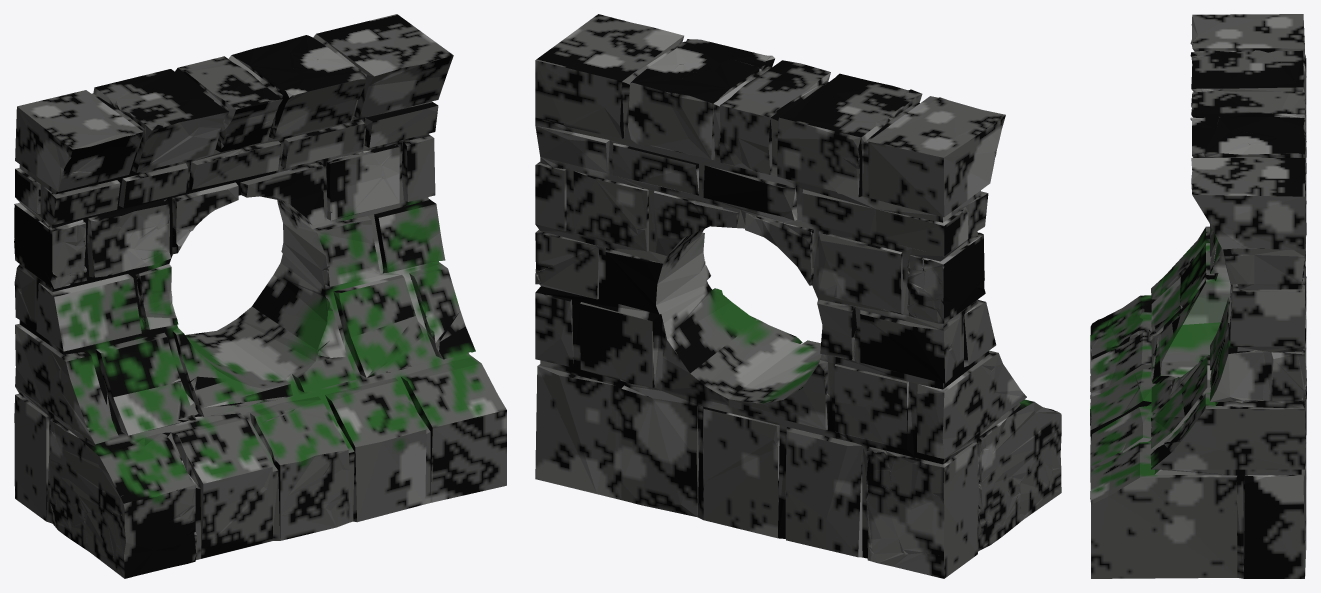
File: wall_pipe.fbx
3 views of the same model, side by side, from view 1: azimuth 30°, elevation 25°; view 2: azimuth 150°, elevation 25°; view 3: azimuth 270°, elevation 25° (orthographic). The views are drawn at different scales.
Parts seen in each view (by area): view 1: Sewer Pipe Wall-1X2; view 2: Sewer Pipe Wall-1X2; view 3: Sewer Pipe Wall-1X2.
Part boxes in pixels (x1=…): Sewer Pipe Wall-1X2: x1=14, y1=14, x2=506, y2=578; Sewer Pipe Wall-1X2: x1=535, y1=14, x2=1061, y2=578; Sewer Pipe Wall-1X2: x1=1090, y1=14, x2=1306, y2=578.
Size of the model in its own units: 5014 by 4906 by 2508.
Materials: 1 (1 with a texture image).
